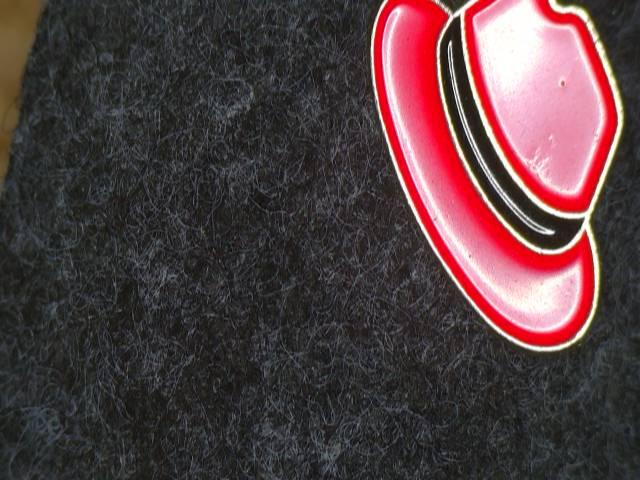Red-Hat: (358, 0, 631, 398)
